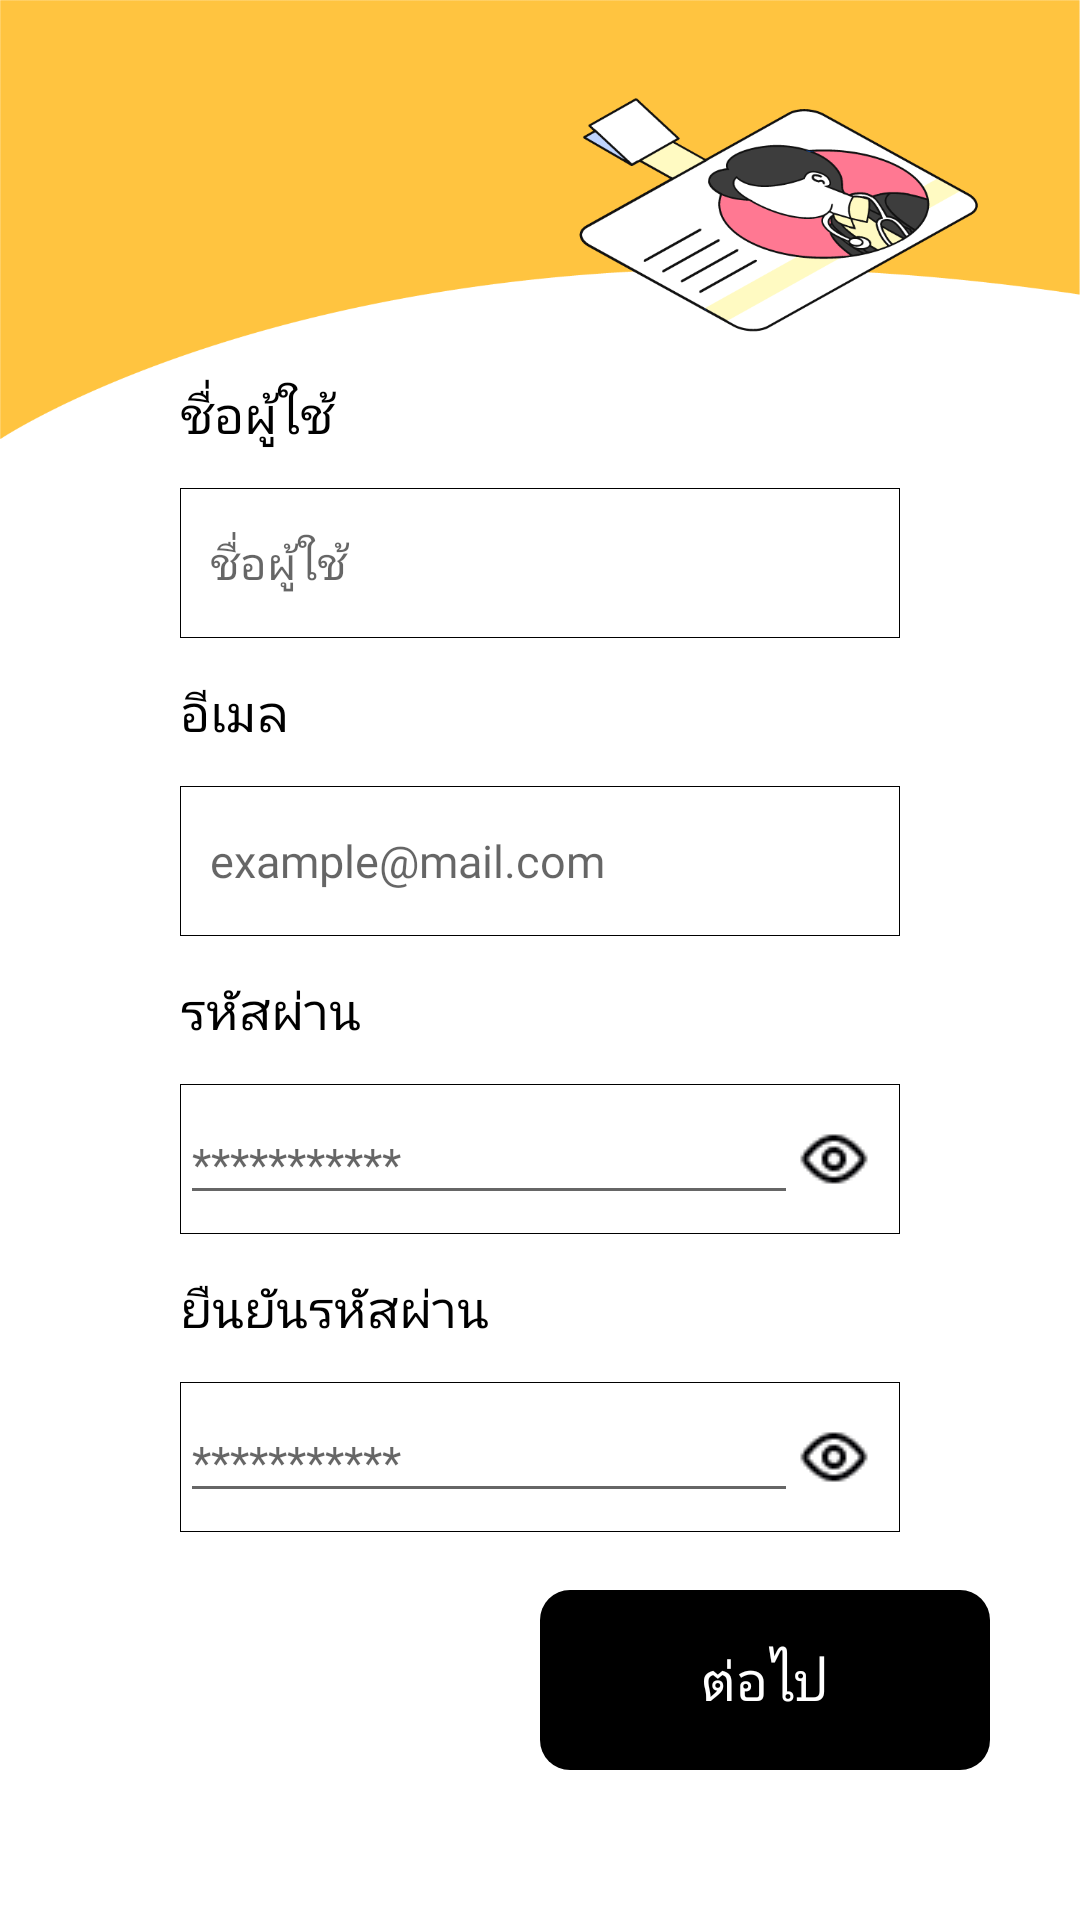

Screen size 1080w x 1920h. Icon name, then its center in pixels as (x=x, y=y):
eye open: (x=834, y=1159), (x=834, y=1457)
